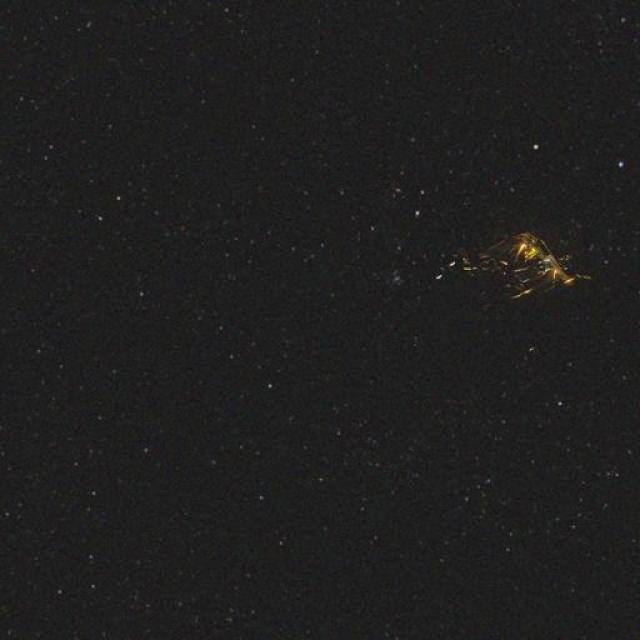lisa_pathfinder: (404, 196, 622, 322)
